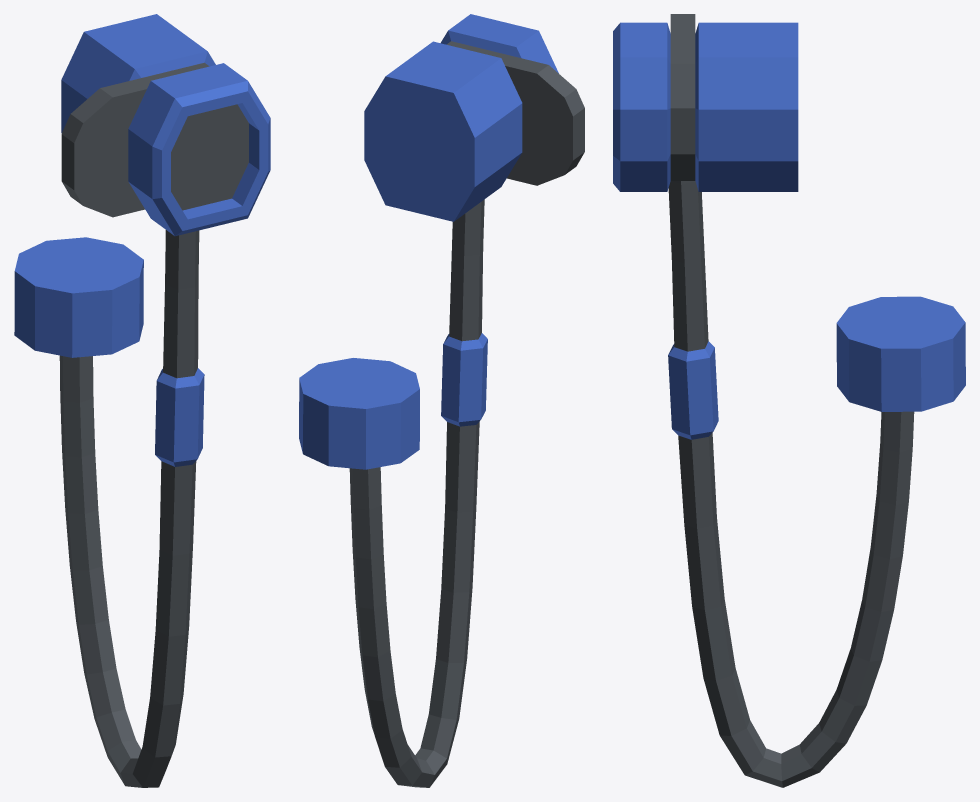
Rendered from Dropship_02_Cable_Blue.fbx.
The picture shows the model from 3 angles, left to right: view 1: azimuth 30°, elevation 25°; view 2: azimuth 150°, elevation 25°; view 3: azimuth 270°, elevation 25°; orthographic projection. The views are drawn at different scales.
Parts seen in each view (by area): view 1: Dropship_02_Cable_Blue; view 2: Dropship_02_Cable_Blue; view 3: Dropship_02_Cable_Blue.
Part boxes in pixels (<box>): Dropship_02_Cable_Blue: <box>14,14,270,787</box>; Dropship_02_Cable_Blue: <box>299,14,584,787</box>; Dropship_02_Cable_Blue: <box>613,14,965,787</box>.
Bounding box in the file's own units: 103 × 422 × 182.
1 material, 1 textured.
